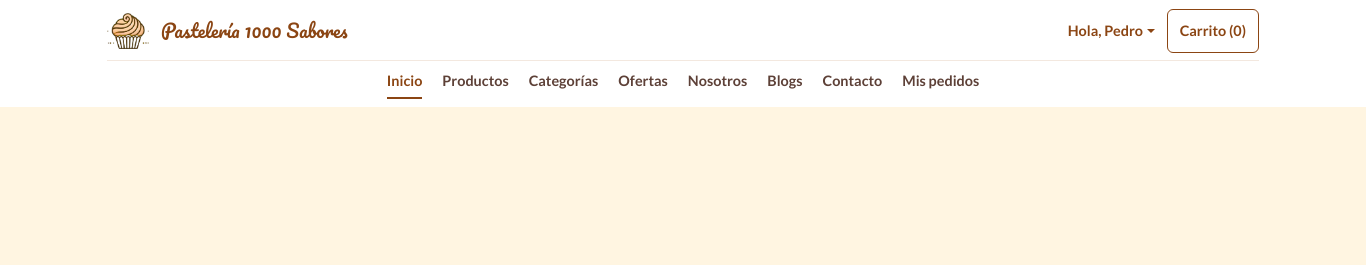
Acceso según el rol › muestra el beneficio de torta gratis al abrir la cuenta
Click the button "Hola, Pedro" at (1111, 31), box [1068,15,1155,47]
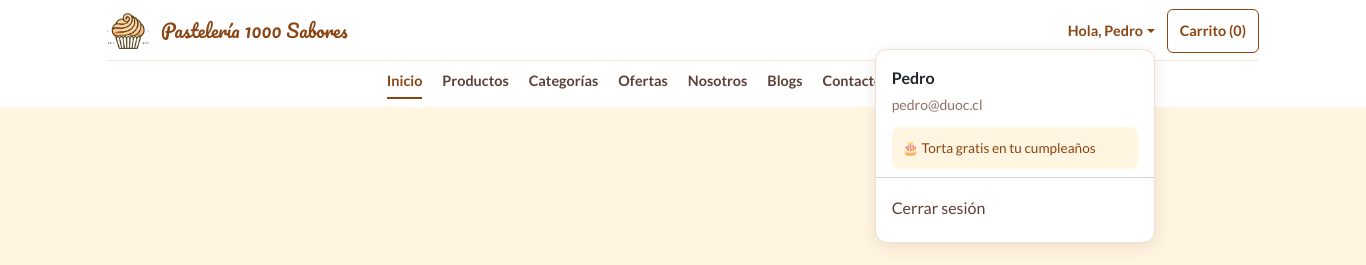
Now the text "🎂 Torta gratis en tu cumpleaños" is shown, box [892,127,1138,169]
